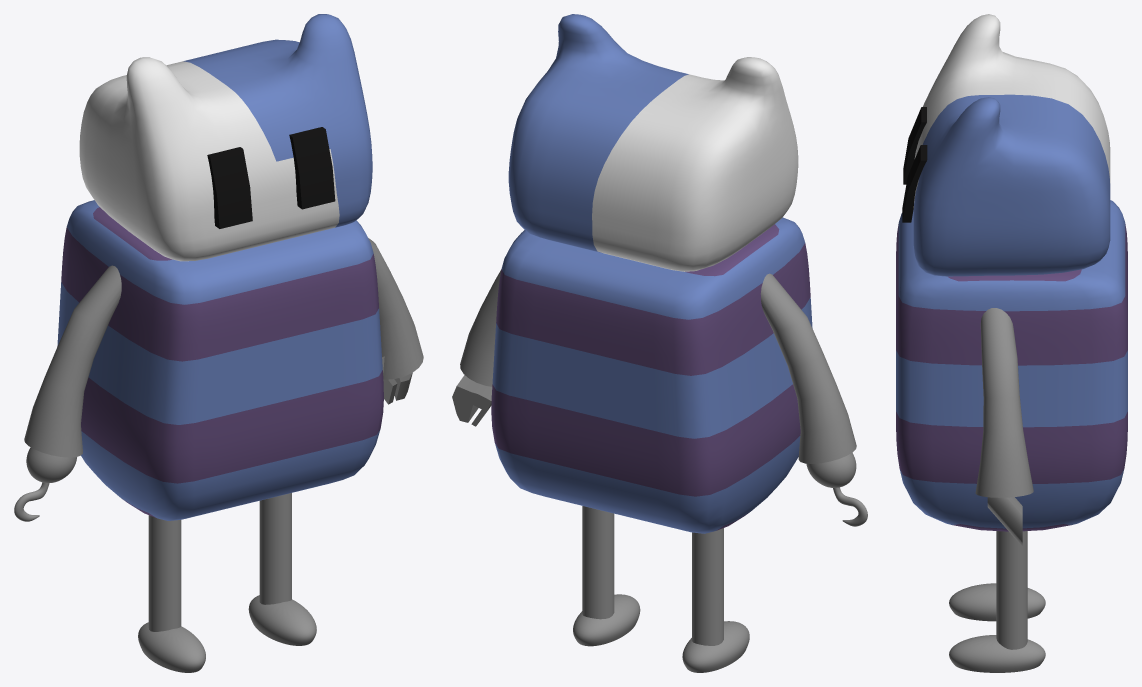
File: jamcharacter2.fbx
3 views of the same model, side by side, from view 1: azimuth 30°, elevation 25°; view 2: azimuth 150°, elevation 25°; view 3: azimuth 270°, elevation 25° (orthographic). The views are drawn at different scales.
Parts seen in each view (by area): view 1: torso, head, rightarm, rightleg, leftarm, leftleg, lefteye, right_eye, leftfoot, rightfoot, righthand, lefthand; view 2: torso, head, rightarm, rightleg, leftleg, leftarm, leftfoot, rightfoot, lefthand, righthand; view 3: torso, head, leftarm, leftleg, leftfoot, rightfoot, lefthand, lefteye, right_eye.
Part boxes in pixels (left/top/right/bottom): torso: left=57, top=200, right=383, bottom=520; head: left=79, top=14, right=372, bottom=261; rightarm: left=24, top=265, right=121, bottom=457; rightleg: left=148, top=515, right=181, bottom=631; leftarm: left=368, top=238, right=423, bottom=379; leftleg: left=259, top=493, right=291, bottom=604; lefteye: left=289, top=127, right=335, bottom=209; right_eye: left=207, top=147, right=252, bottom=228; leftfoot: left=248, top=595, right=316, bottom=645; rightfoot: left=138, top=622, right=205, bottom=672; righthand: left=26, top=447, right=76, bottom=482; lefthand: left=382, top=356, right=412, bottom=404; torso: left=491, top=217, right=812, bottom=533; head: left=508, top=14, right=798, bottom=271; rightarm: left=760, top=273, right=856, bottom=463; rightleg: left=692, top=528, right=723, bottom=645; leftleg: left=582, top=506, right=614, bottom=619; leftarm: left=460, top=270, right=501, bottom=386; leftfoot: left=573, top=594, right=640, bottom=646; rightfoot: left=682, top=621, right=749, bottom=672; lefthand: left=452, top=375, right=492, bottom=426; righthand: left=806, top=452, right=856, bottom=487; torso: left=896, top=200, right=1127, bottom=531; head: left=913, top=14, right=1110, bottom=276; leftarm: left=975, top=308, right=1033, bottom=497; leftleg: left=996, top=531, right=1027, bottom=649; leftfoot: left=949, top=635, right=1045, bottom=672; rightfoot: left=949, top=583, right=1045, bottom=621; lefthand: left=987, top=497, right=1022, bottom=546; lefteye: left=902, top=145, right=927, bottom=222; right_eye: left=903, top=107, right=926, bottom=184.
Bounding box in the file's own units: 6.53 × 9.27 × 3.36.
